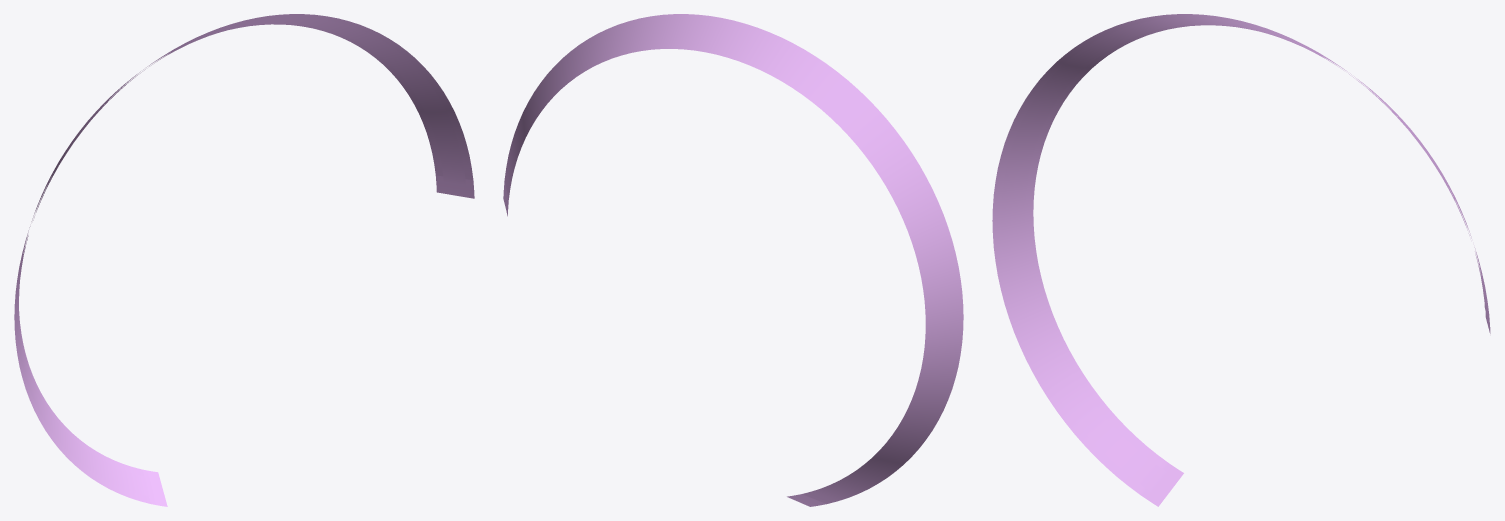
Rendered from Mesh_Note_42.fbx.
The picture shows the model from 3 angles, left to right: view 1: azimuth 30°, elevation 25°; view 2: azimuth 150°, elevation 25°; view 3: azimuth 330°, elevation 25°; orthographic projection. The views are drawn at different scales.
Visible parts, largest first — view 1: Mesh_Note_42; view 2: Mesh_Note_42; view 3: Mesh_Note_42.
Boxes of the visible parts, box(x1,y1,x2,y2) form: Mesh_Note_42: box(14, 14, 474, 506); Mesh_Note_42: box(503, 14, 963, 506); Mesh_Note_42: box(992, 14, 1490, 506).
Size of the model in its own units: 3.56 by 3.46 by 0.2235.
